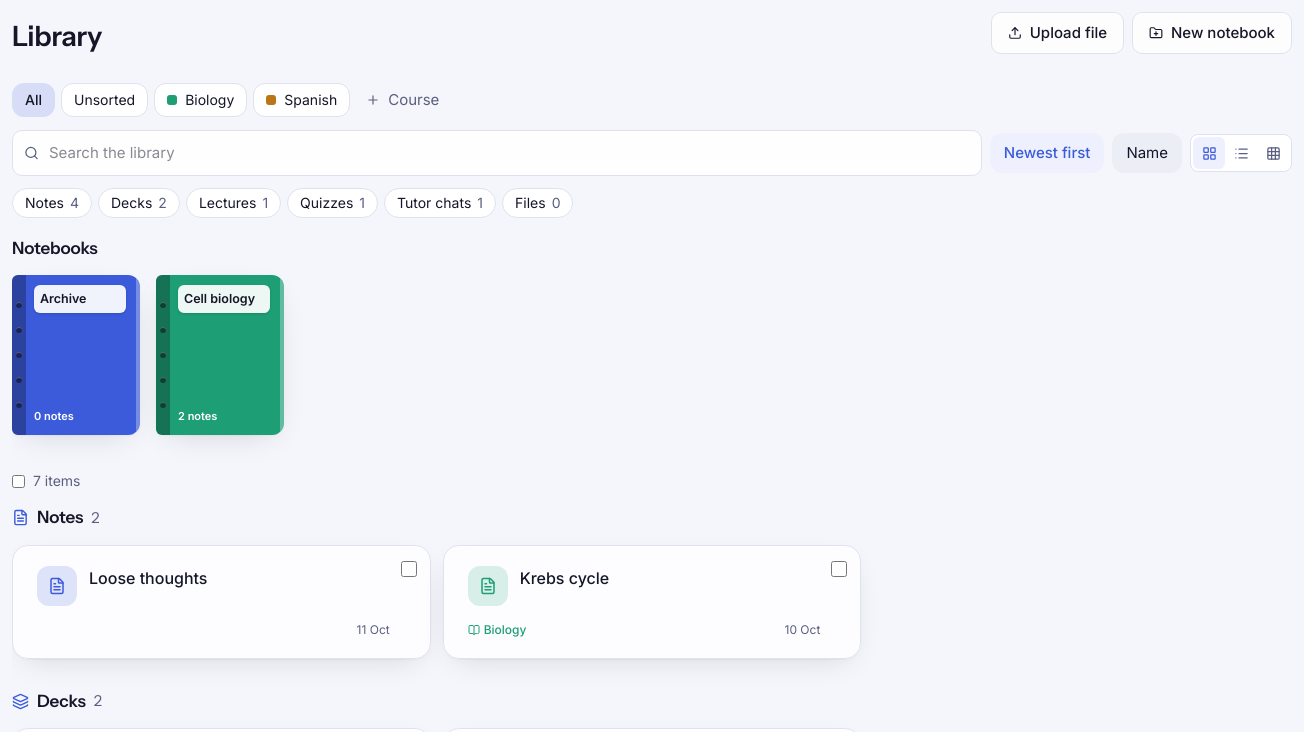
Scenario: Library › notebooks are folders › reads the notebooks again with the items, so a notebook made elsewhere shows its notes
This screenshot has width=1304, height=732.
Click the checkbox named "Loose thoughts" at (409, 568), box [401, 560, 417, 576]
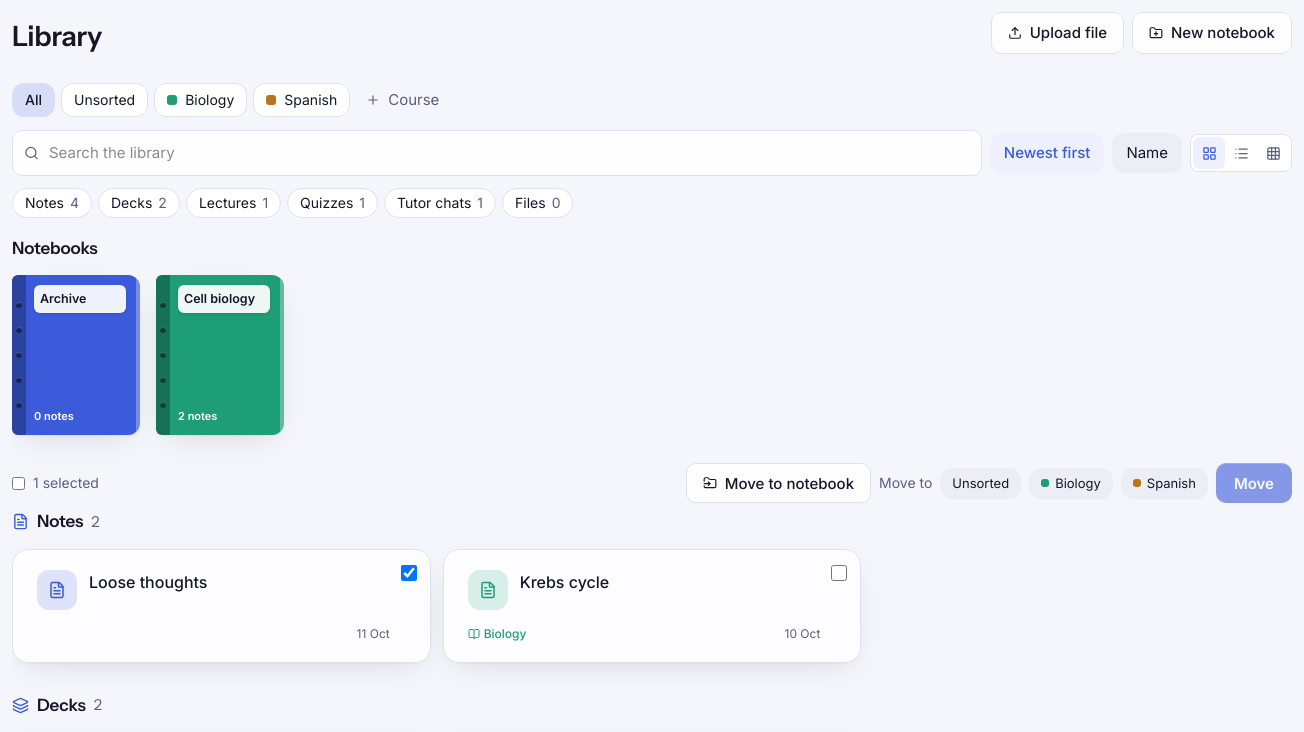
Click the radio button labelled "Biology" at (1071, 483), box [1029, 468, 1113, 499]
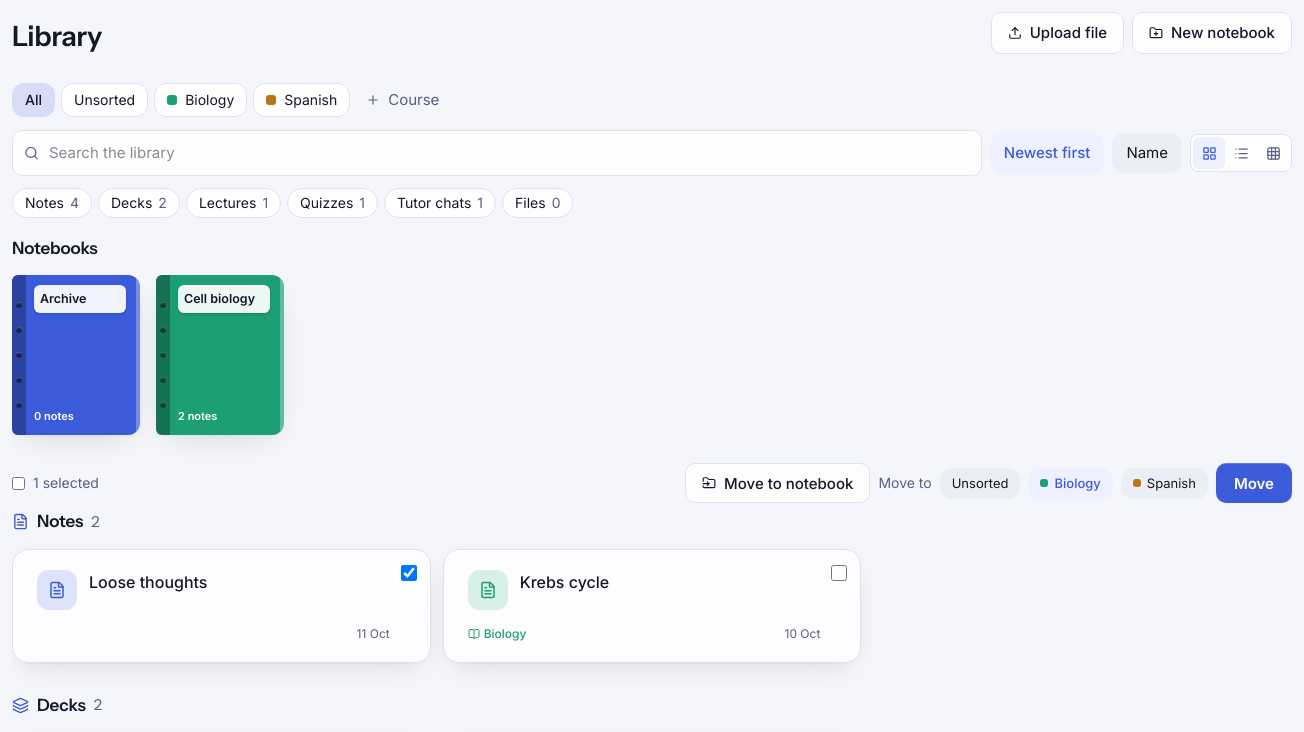
Click the button "Move" at (1254, 483), box [1216, 463, 1292, 503]
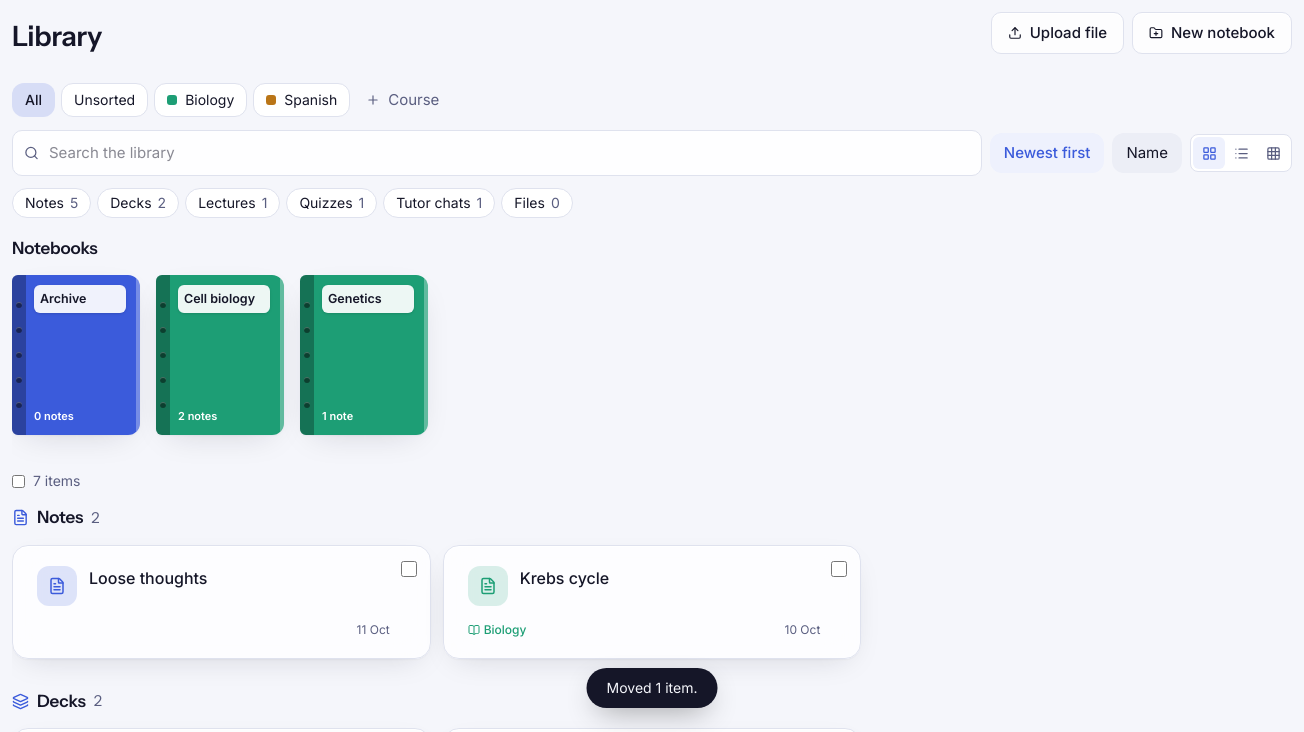
Result: the link with aria-label "Open Genetics, 1 note" is shown at [300, 275, 428, 435]
